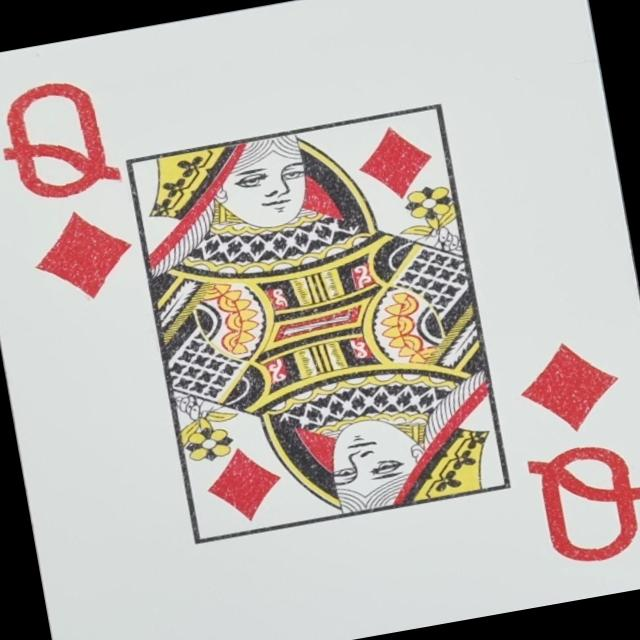Qd: (0, 68, 147, 314), (502, 330, 640, 575)
